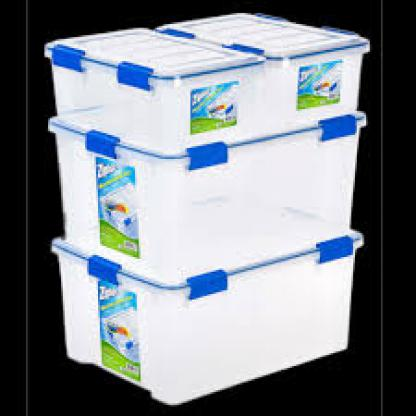plastic_box: (46, 100, 366, 279), (52, 233, 366, 409)
